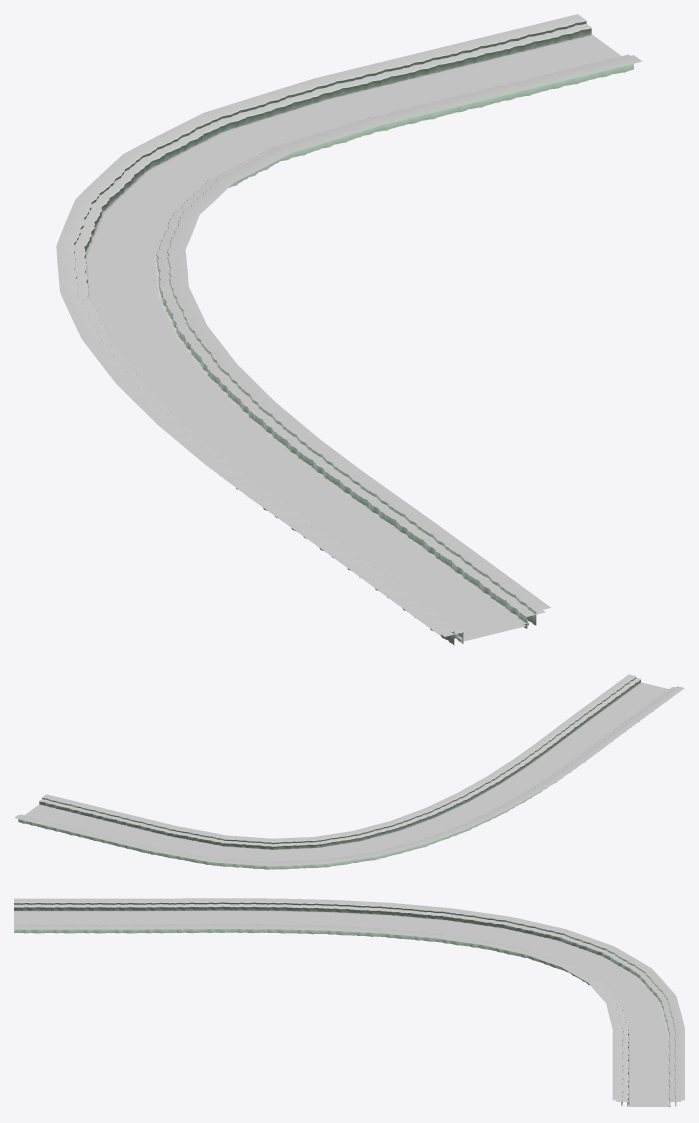
The model's file is RightCurveModule.fbx.
The picture shows the model from 3 angles, top to bottom: view 1: azimuth 30°, elevation 25°; view 2: azimuth 150°, elevation 25°; view 3: azimuth 270°, elevation 25°; orthographic projection. The views are drawn at different scales.
Parts seen in each view (by area): view 1: Cube.027, Cube.026, Cube.025; view 2: Cube.027, Cube.025, Cube.026; view 3: Cube.027, Cube.026, Cube.025.
Boxes of the visible parts, left/top/right/bottom form: Cube.027: left=85, top=34, right=621, bottom=641; Cube.026: left=56, top=14, right=591, bottom=645; Cube.025: left=156, top=54, right=642, bottom=628; Cube.027: left=24, top=682, right=668, bottom=861; Cube.025: left=39, top=674, right=640, bottom=849; Cube.026: left=14, top=686, right=684, bottom=869; Cube.027: left=14, top=910, right=670, bottom=1106; Cube.026: left=14, top=898, right=684, bottom=1106; Cube.025: left=14, top=923, right=629, bottom=1105.
Bounding box in the file's own units: 15644 × 309 × 21974.
